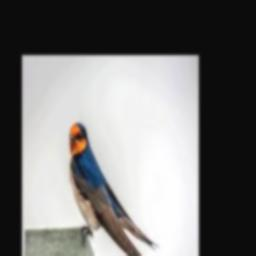Swallow: (70, 123, 159, 256)
